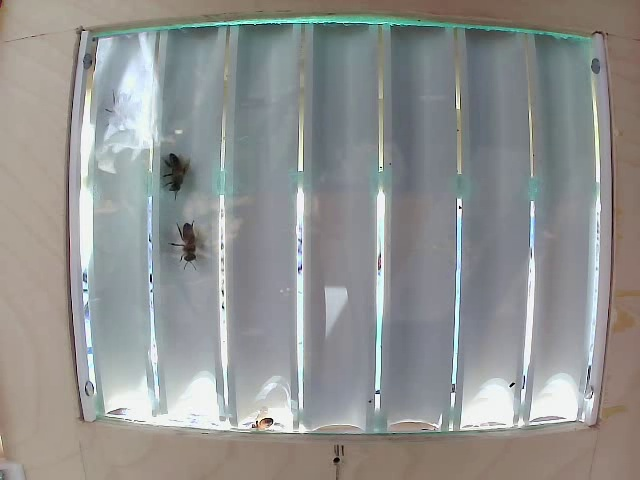bee: (169, 211, 208, 277), (158, 150, 193, 204)
